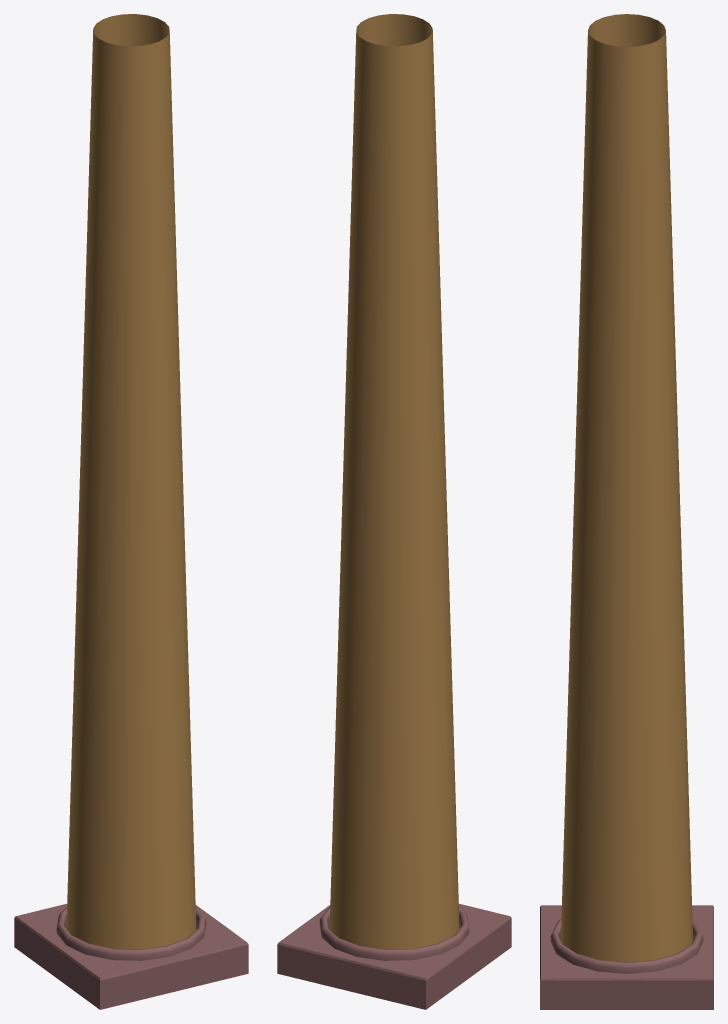
File: FBX_Hazard_FloorFire_Small.fbx
3 views of the same model, side by side, from view 1: azimuth 30°, elevation 25°; view 2: azimuth 150°, elevation 25°; view 3: azimuth 270°, elevation 25° (orthographic).
Parts seen in each view (by area): view 1: Hazard_FloorFire_Fire_Small, Hazard_FloorFire_Small; view 2: Hazard_FloorFire_Fire_Small, Hazard_FloorFire_Small; view 3: Hazard_FloorFire_Fire_Small, Hazard_FloorFire_Small.
Boxes of the visible parts, <box> form: Hazard_FloorFire_Fire_Small: <box>66,14,196,949</box>; Hazard_FloorFire_Small: <box>14,903,248,1009</box>; Hazard_FloorFire_Fire_Small: <box>329,14,459,949</box>; Hazard_FloorFire_Small: <box>277,903,511,1009</box>; Hazard_FloorFire_Fire_Small: <box>561,14,692,962</box>; Hazard_FloorFire_Small: <box>540,905,713,1009</box>.
Size of the model in its own units: 50 by 299 by 50.
